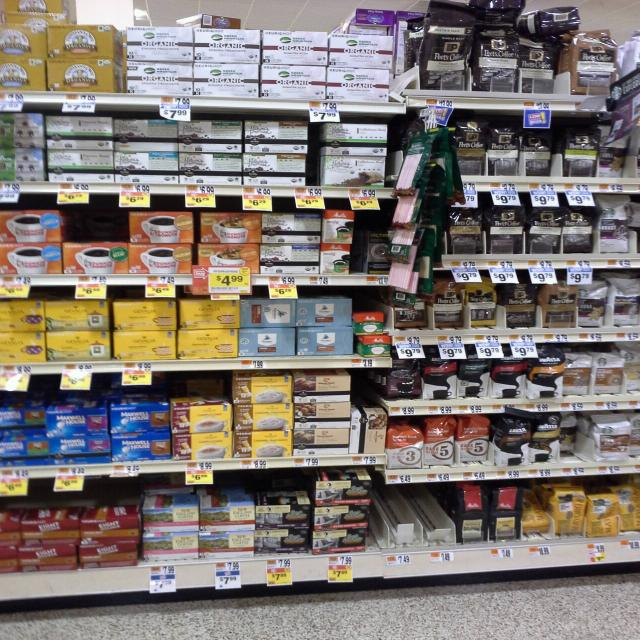empty: (370, 489, 456, 549)
